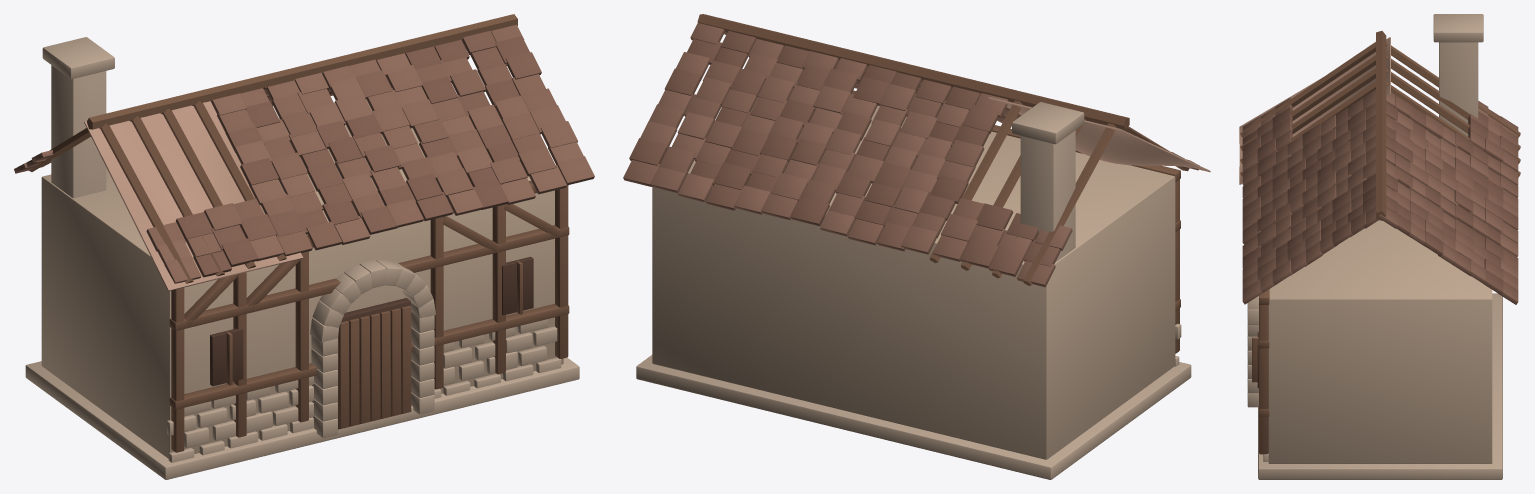
Rendered from hearth_hall.glb.
3 views of the same model, side by side, from view 1: azimuth 30°, elevation 25°; view 2: azimuth 150°, elevation 25°; view 3: azimuth 270°, elevation 25° (orthographic). The views are drawn at different scales.
Parts seen in each view (by area): view 1: hearth_hall; view 2: hearth_hall; view 3: hearth_hall.
Part boxes in pixels (box(x1,y1,x2,y2)): hearth_hall: box(14, 14, 594, 479); hearth_hall: box(623, 14, 1210, 479); hearth_hall: box(1239, 14, 1520, 479).
Size of the model in its own units: 8.27 by 6.22 by 5.41.
